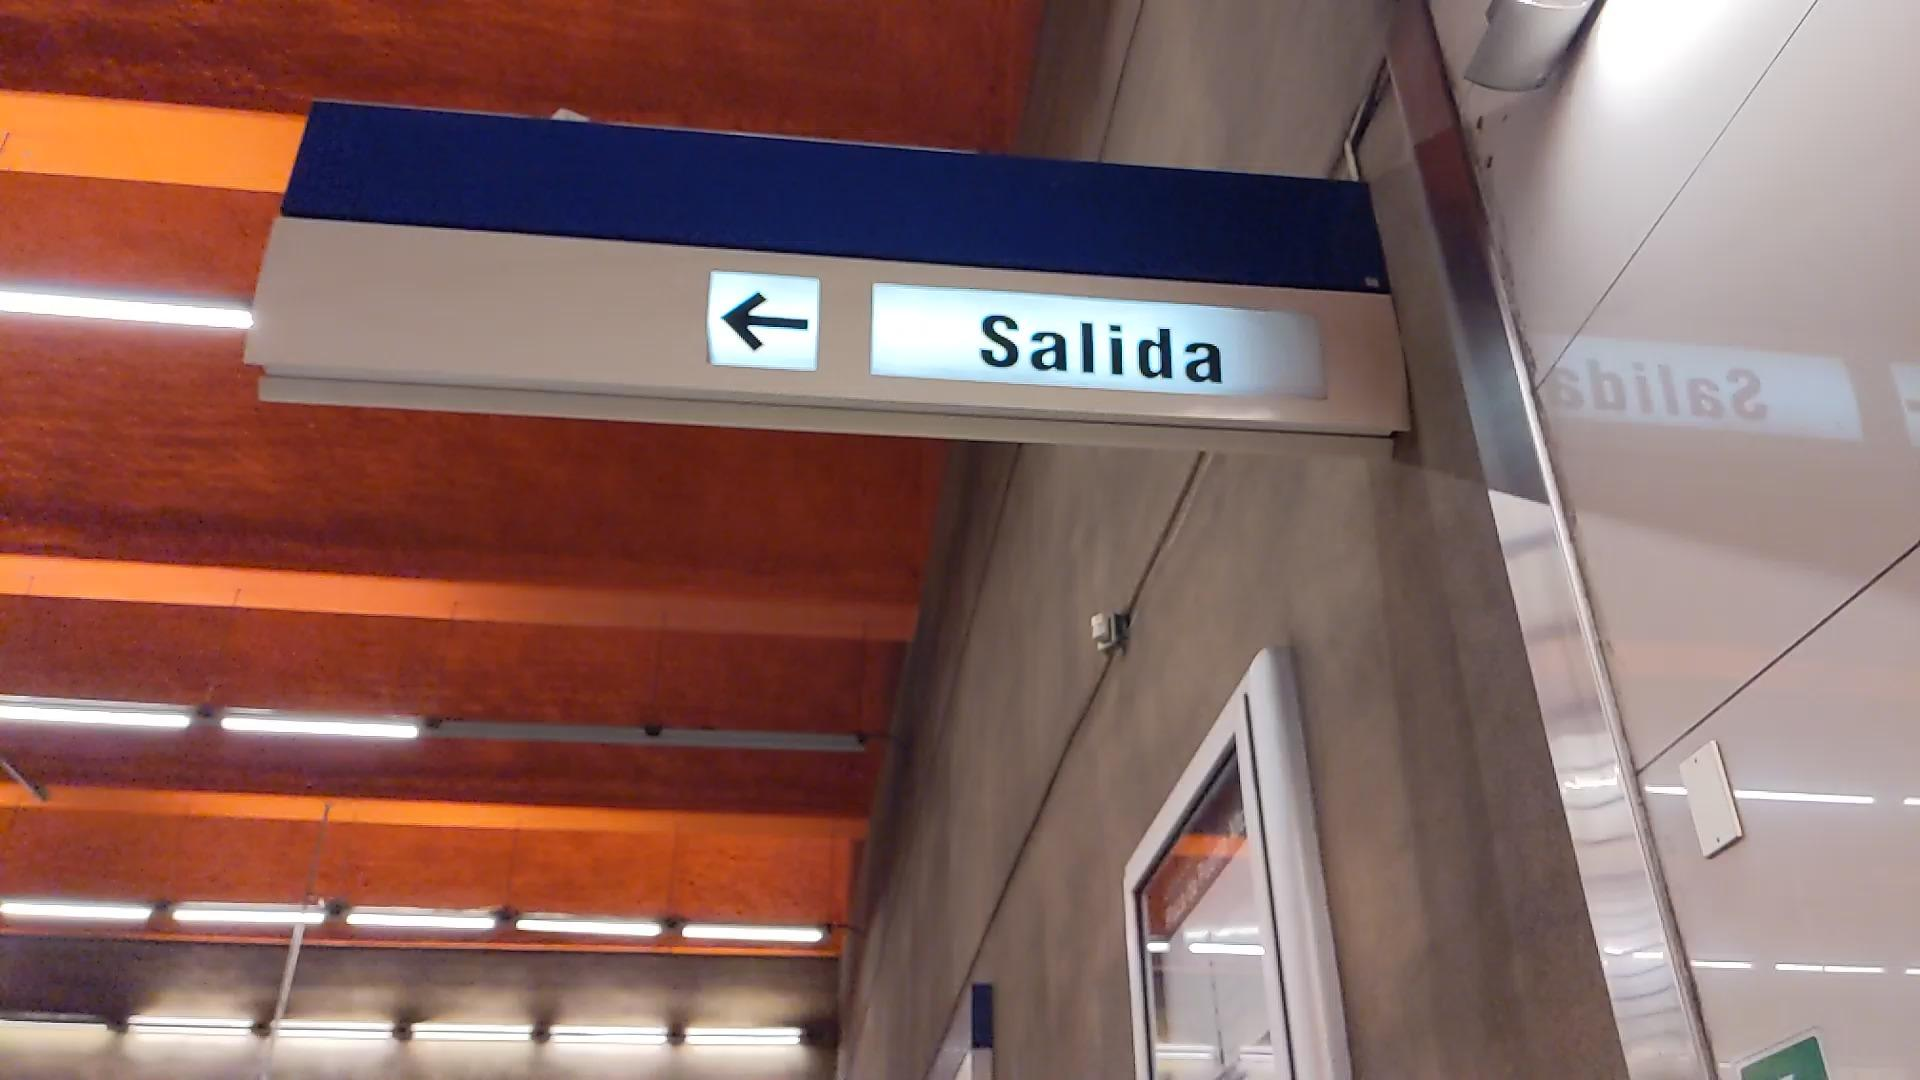left arrow: (716, 286, 815, 360)
